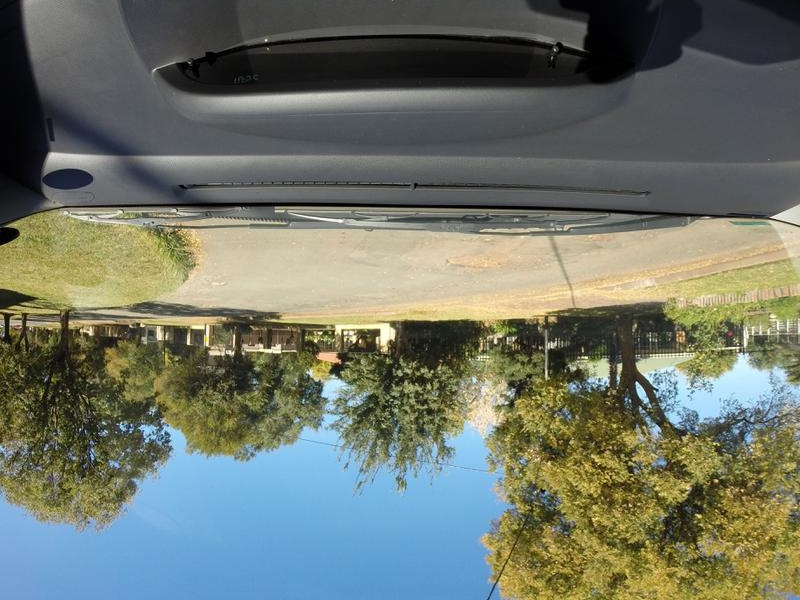pothole: (440, 250, 517, 282)
